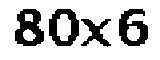0: (47, 3, 82, 51)
6: (117, 6, 152, 49)
8: (11, 5, 47, 47)
x: (81, 16, 114, 49)
